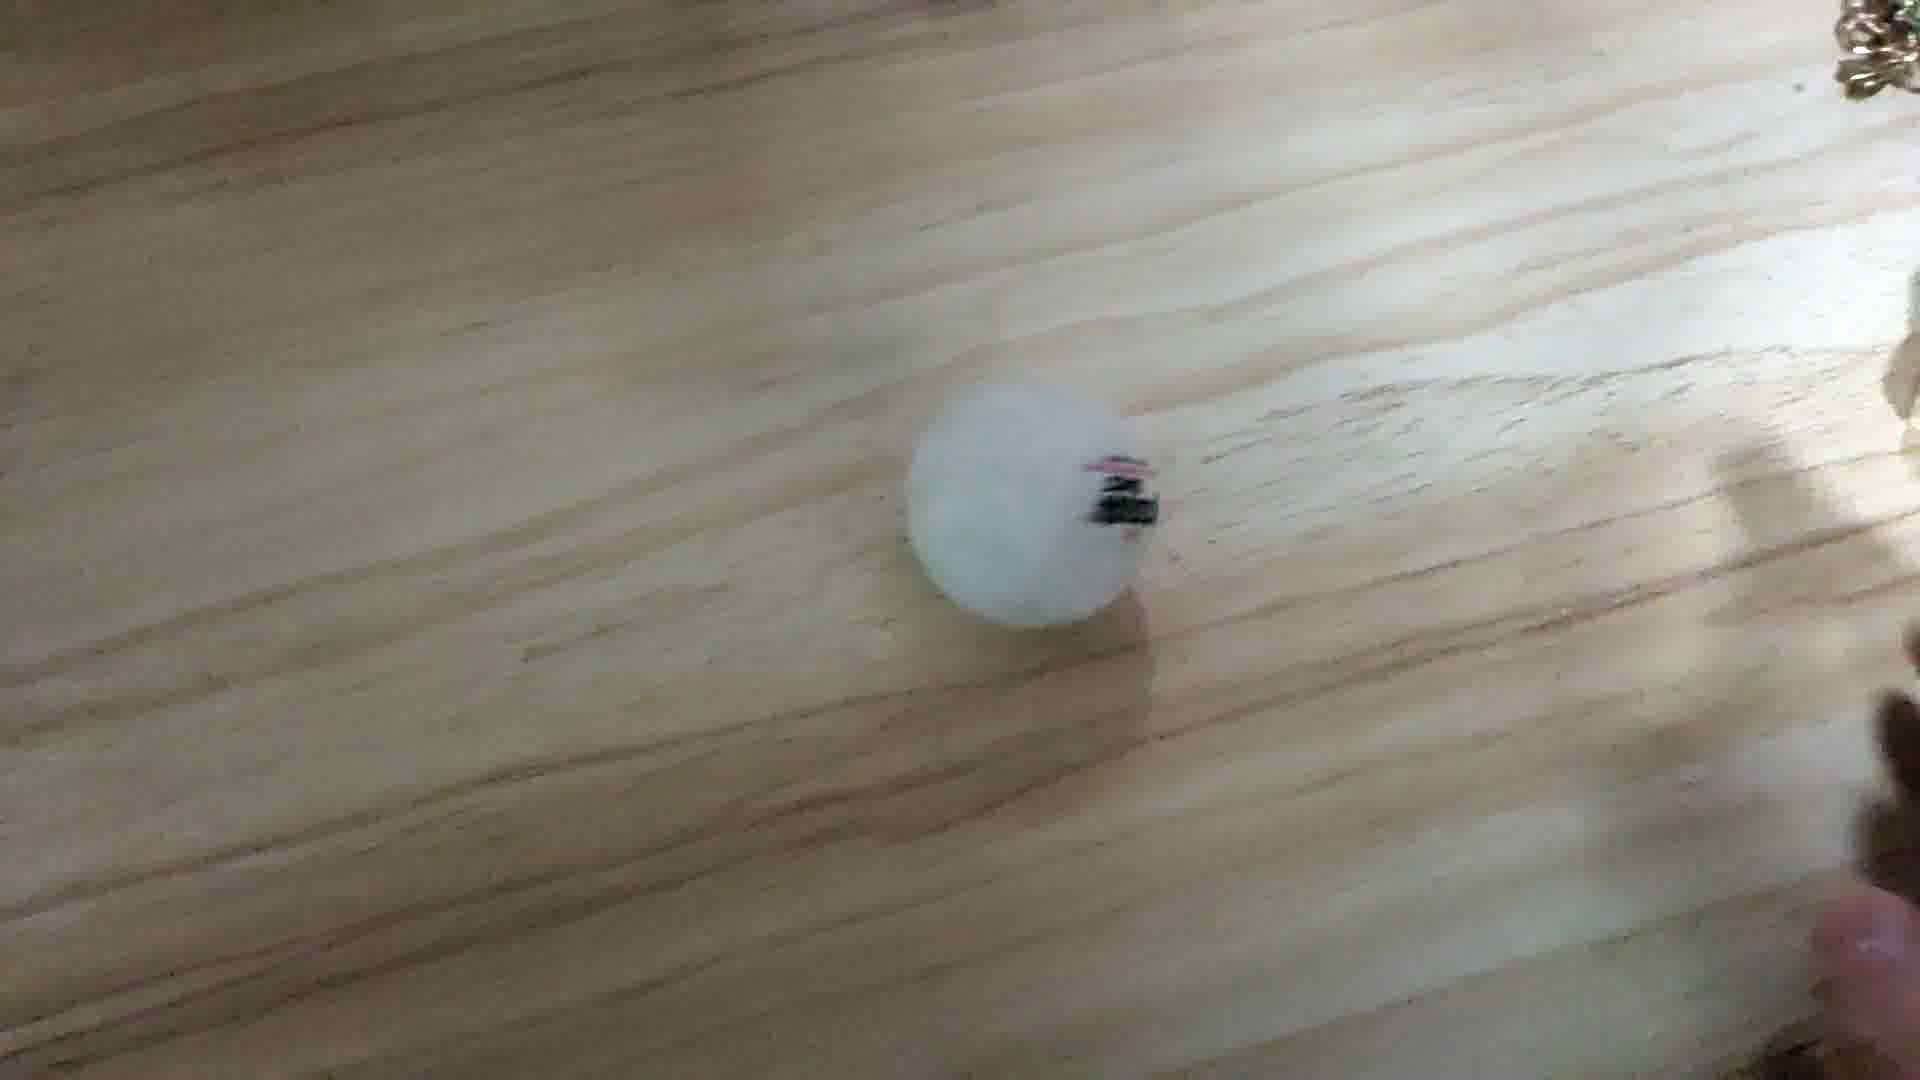Ball: (905, 377, 1167, 629)
